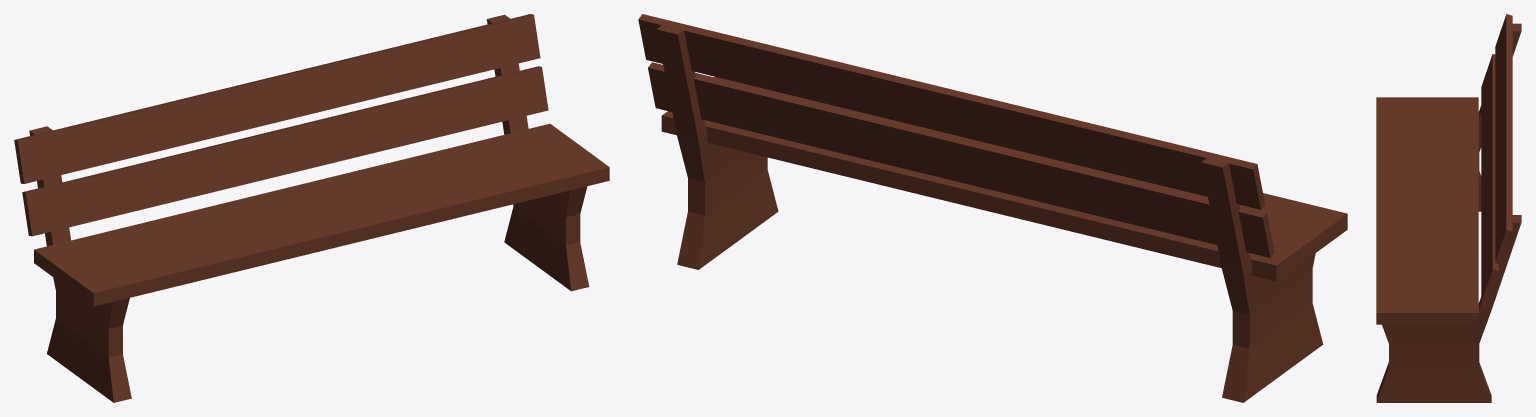
Rendered from Bench.glb.
The picture shows the model from 3 angles, left to right: view 1: azimuth 30°, elevation 25°; view 2: azimuth 150°, elevation 25°; view 3: azimuth 270°, elevation 25°; orthographic projection. The views are drawn at different scales.
Parts seen in each view (by area): view 1: Cube, Cube.003, Cube.002, Cube.001; view 2: Cube.003, Cube.002, Cube.001, Cube; view 3: Cube, Cube.001, Cube.003, Cube.002.
Boxes of the visible parts, x1,y1,x2,y2 form: Cube: (34, 123, 609, 306); Cube.003: (14, 14, 540, 183); Cube.002: (22, 66, 548, 236); Cube.001: (29, 14, 589, 402); Cube.003: (638, 14, 1265, 209); Cube.002: (648, 62, 1274, 257); Cube.001: (656, 24, 1323, 402); Cube: (661, 76, 1347, 281); Cube: (1376, 97, 1478, 324); Cube.001: (1376, 23, 1521, 402); Cube.003: (1495, 14, 1512, 264); Cube.002: (1481, 54, 1498, 304).
Bounding box in the file's own units: 2 × 0.7846 × 0.5678.
